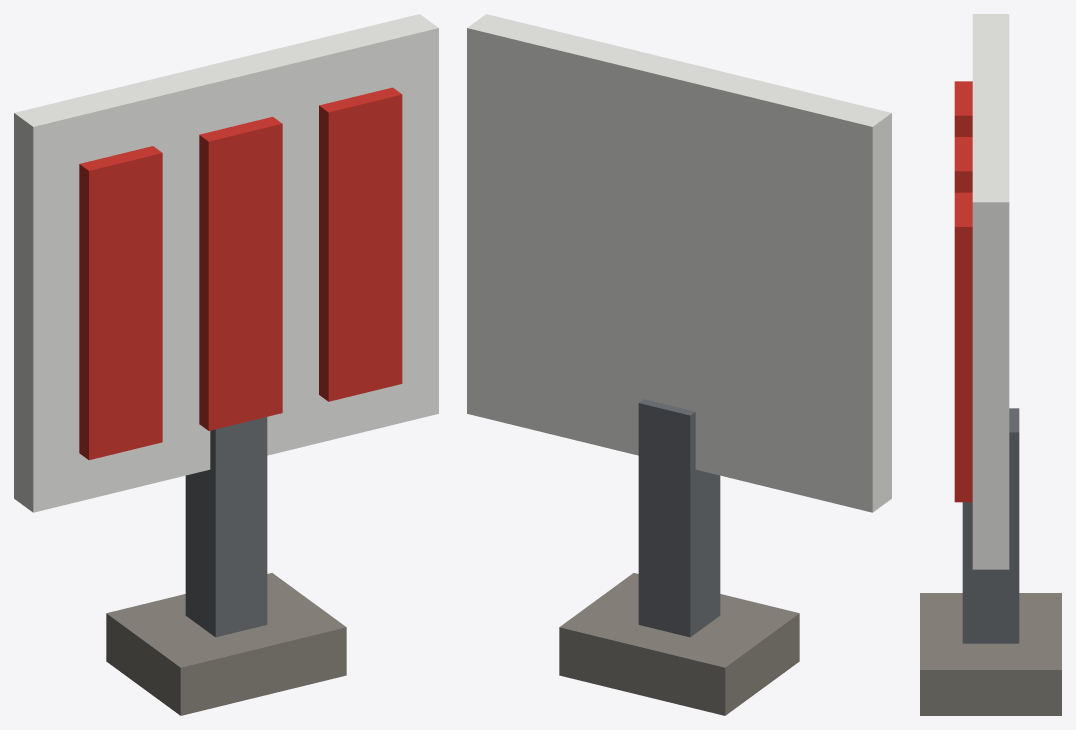
Rendered from brakingBoard.glb.
The picture shows the model from 3 angles, left to right: view 1: azimuth 30°, elevation 25°; view 2: azimuth 150°, elevation 25°; view 3: azimuth 270°, elevation 25°; orthographic projection. The views are drawn at different scales.
Parts seen in each view (by area): view 1: brakingBoard_white, brakingBoard_red, brakingBoard_concreteDark, brakingBoard_steel; view 2: brakingBoard_white, brakingBoard_concreteDark, brakingBoard_steel; view 3: brakingBoard_white, brakingBoard_concreteDark, brakingBoard_red, brakingBoard_steel.
Part boxes in pixels (x1,y1,x2,y2): brakingBoard_white: [14, 14, 438, 512]; brakingBoard_red: [79, 87, 402, 460]; brakingBoard_concreteDark: [106, 573, 346, 715]; brakingBoard_steel: [185, 417, 267, 637]; brakingBoard_white: [467, 14, 891, 512]; brakingBoard_concreteDark: [559, 573, 799, 715]; brakingBoard_steel: [638, 399, 720, 637]; brakingBoard_white: [972, 14, 1009, 569]; brakingBoard_concreteDark: [920, 593, 1061, 715]; brakingBoard_red: [954, 81, 972, 502]; brakingBoard_steel: [962, 408, 1019, 643].
Size of the model in its own units: 2.2 by 3.1 by 0.7.
